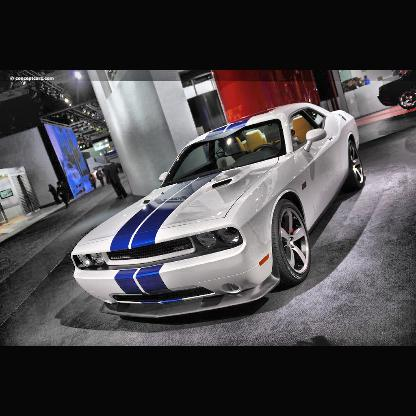Dodge Challenger SRT8 2011: (73, 103, 366, 319)
